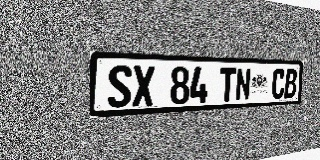4: (190, 67, 209, 103)
8: (170, 66, 190, 104)
B: (284, 69, 298, 98)
C: (271, 68, 286, 99)
N: (235, 68, 251, 101)
S: (108, 65, 132, 108)
T: (219, 67, 236, 102)
X: (132, 65, 155, 106)
